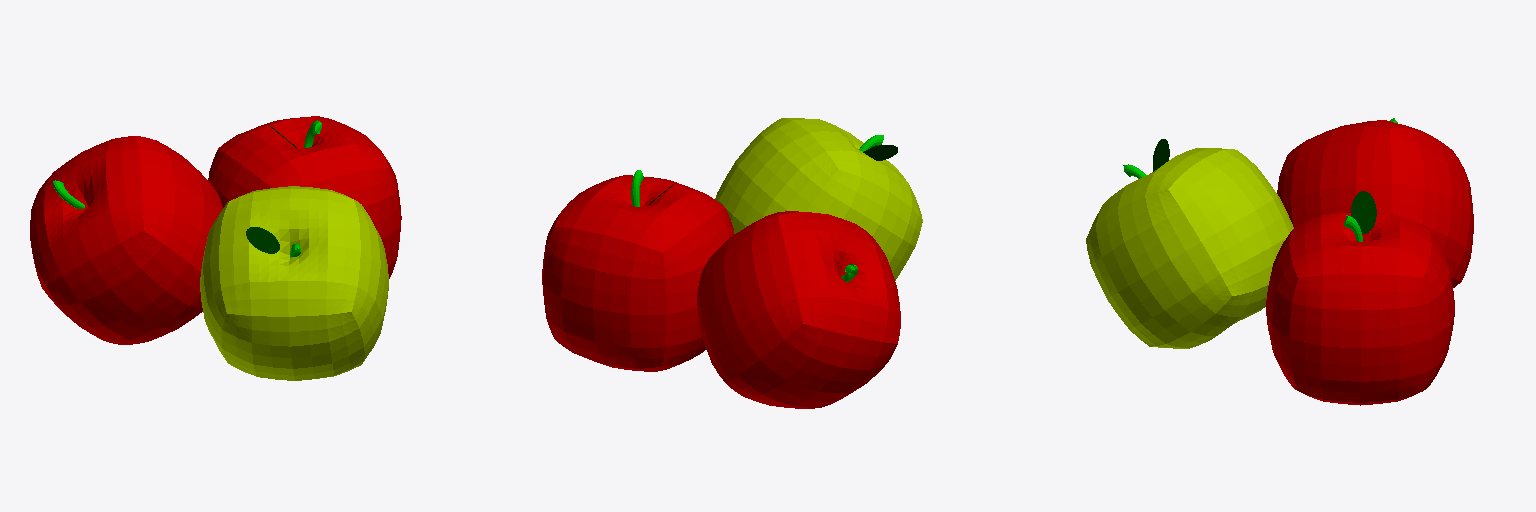
The model's file is pommes.obj.
The picture shows the model from 3 angles: view 1: azimuth 30°, elevation 25°; view 2: azimuth 150°, elevation 25°; view 3: azimuth 270°, elevation 25°; orthographic projection.
Parts seen in each view (by area): view 1: Cube.001_Cube.002, Pomme_Cube.001, Cube, Circle.001; view 2: Pomme_Cube.001, Cube, Cube.001_Cube.002; view 3: Cube, Cube.001_Cube.002, Pomme_Cube.001, Circle.
Part boxes in pixels (x1,y1,x2,y2): Cube.001_Cube.002: (200,186,388,380); Pomme_Cube.001: (30,136,222,344); Cube: (208,116,401,278); Circle.001: (246,227,279,253); Pomme_Cube.001: (697,211,900,408); Cube: (542,175,734,371); Cube.001_Cube.002: (715,118,922,280); Cube: (1266,212,1454,405); Cube.001_Cube.002: (1086,148,1293,348); Pomme_Cube.001: (1277,120,1473,287); Circle: (1351,191,1376,233).
Size of the model in its own units: 10.73 by 5.8 by 10.62.